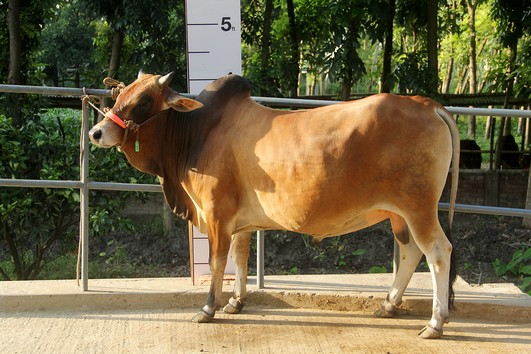cow: (84, 57, 466, 339)
